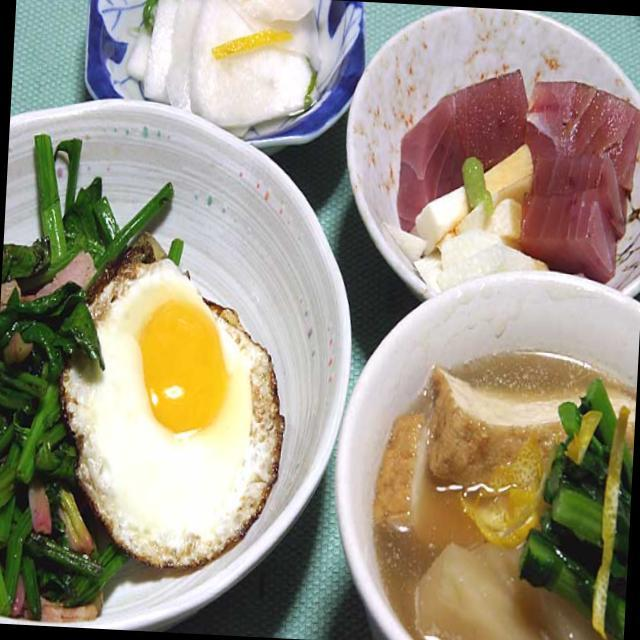Egg: (48, 256, 291, 566)
